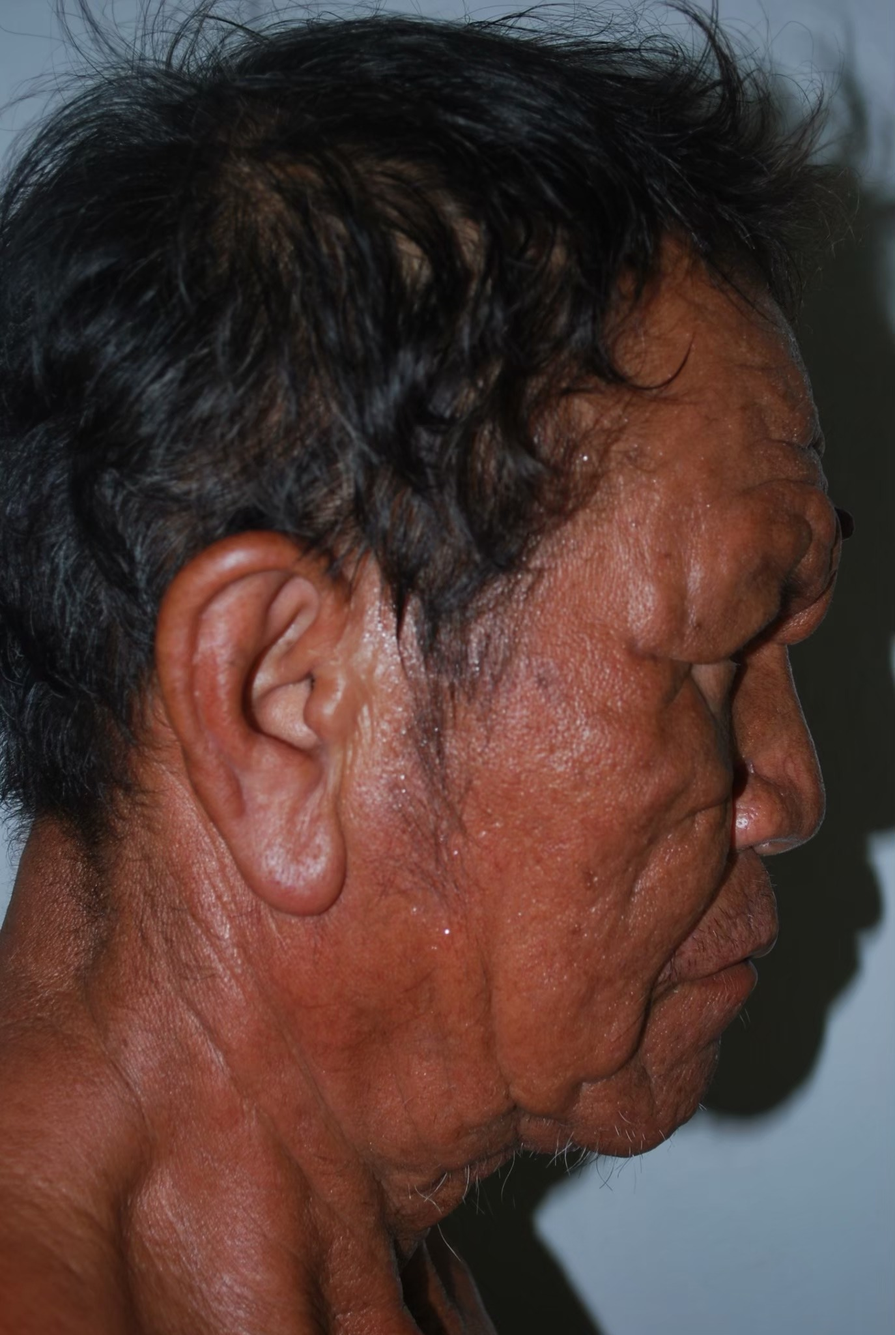Leprosy: (156, 534, 360, 930)
